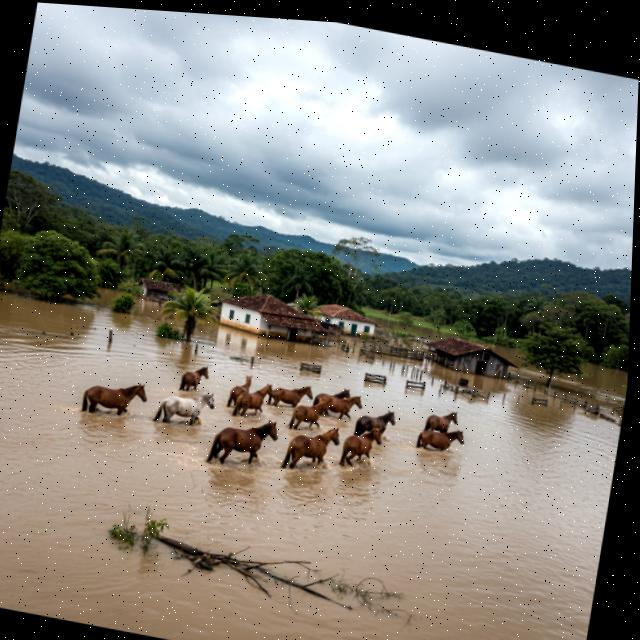horse: (204, 406, 284, 477), (73, 370, 154, 427), (281, 414, 343, 478), (148, 381, 220, 436), (335, 422, 384, 478), (229, 376, 275, 426), (413, 421, 469, 460), (310, 387, 364, 425), (285, 394, 332, 436), (353, 403, 398, 443), (224, 367, 258, 416), (270, 376, 316, 412), (418, 403, 462, 438), (177, 360, 212, 396), (327, 384, 353, 404)
